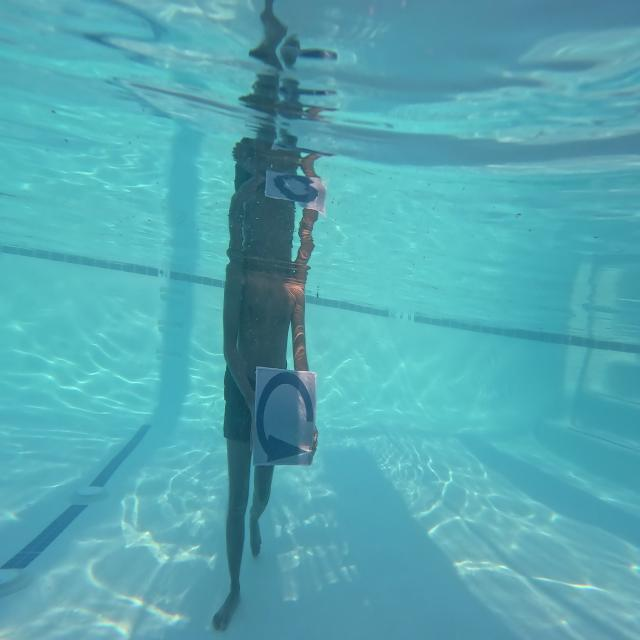blue_side: (254, 365, 315, 470)
